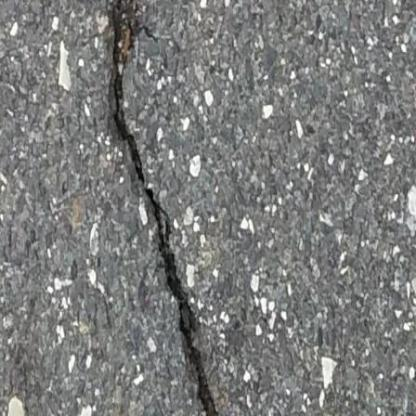Cracks: (98, 0, 225, 416)
